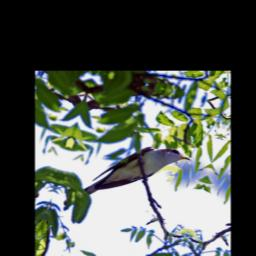Cuckoo: (62, 126, 193, 233)
